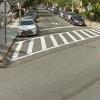Crosswalk: (8, 35, 100, 59)
